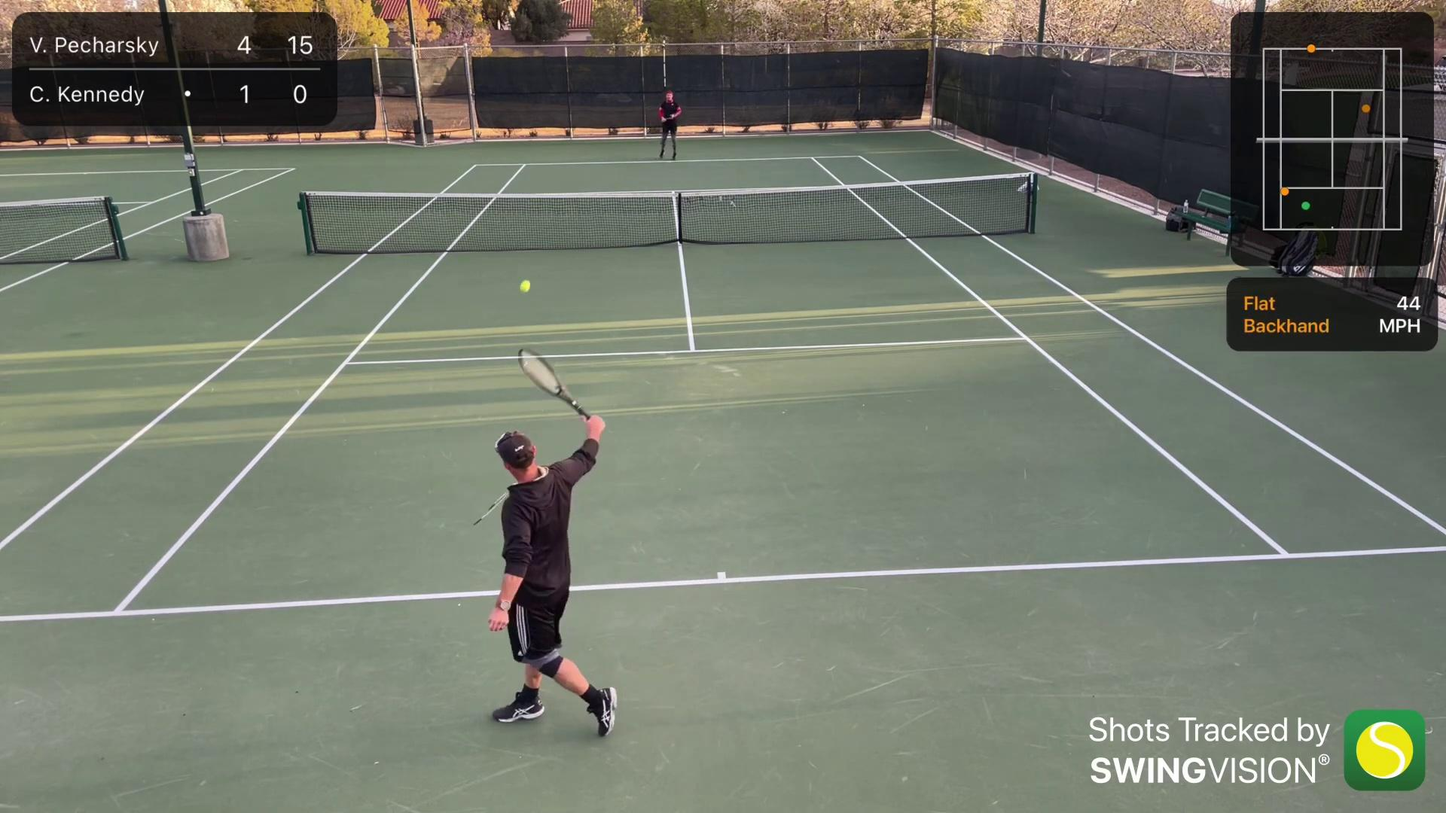ball: (517, 276, 532, 294)
